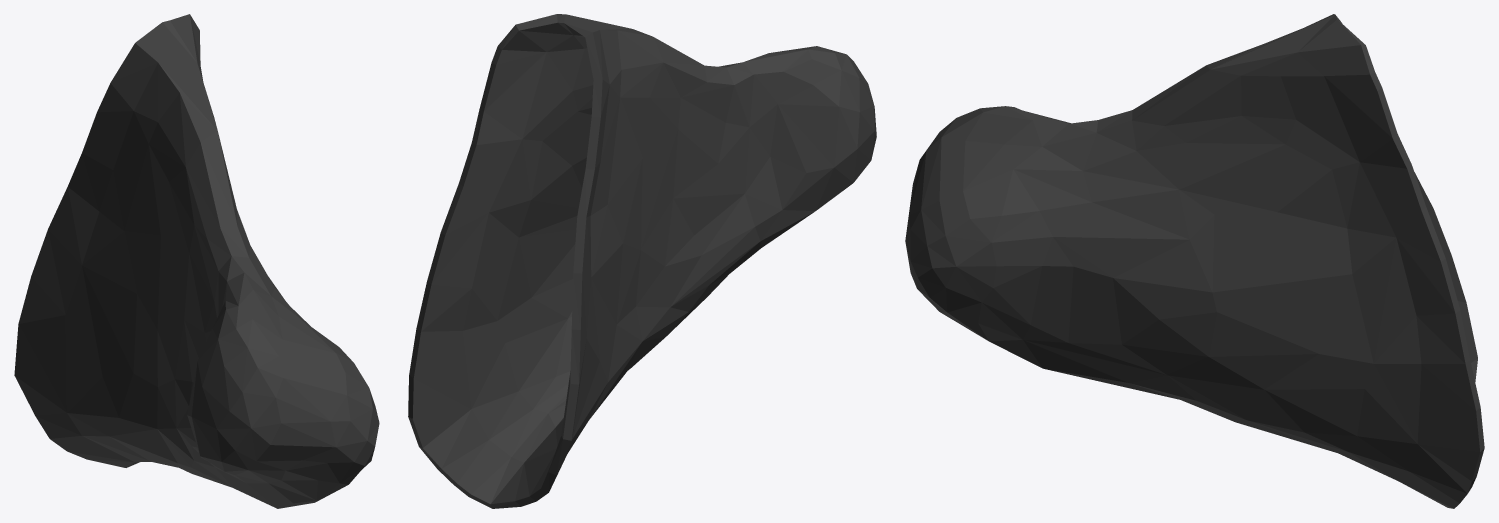
File: c5_spinous_process.glb
The picture shows the model from 3 angles, left to right: view 1: azimuth 30°, elevation 25°; view 2: azimuth 150°, elevation 25°; view 3: azimuth 270°, elevation 25°; orthographic projection. The views are drawn at different scales.
Visible parts, largest first — view 1: c5_spinous_process; view 2: c5_spinous_process; view 3: c5_spinous_process.
Part boxes in pixels (x1,y1,x2,y2): c5_spinous_process: (14,14,379,508); c5_spinous_process: (408,14,876,508); c5_spinous_process: (905,14,1484,508).
Bounding box in the file's own units: 6.45 × 12.78 × 13.88.
Materials: 1 (1 with a texture image).
